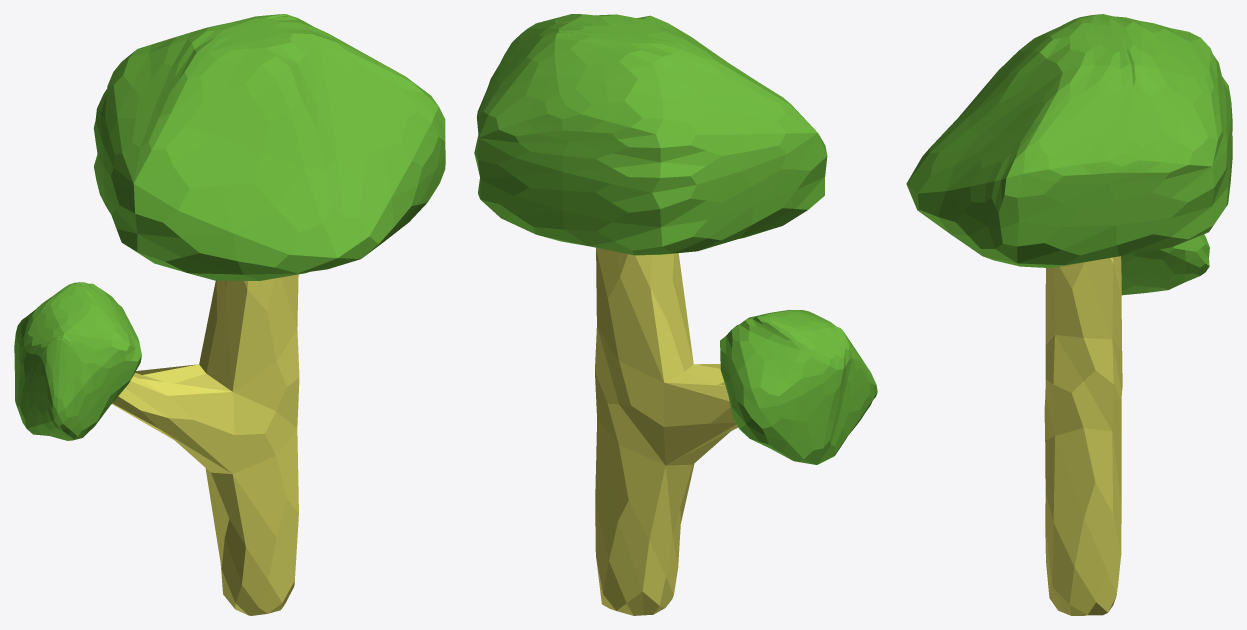
The model's file is Small tree.fbx.
3 renders of one model, left to right at view 1: azimuth 30°, elevation 25°; view 2: azimuth 150°, elevation 25°; view 3: azimuth 270°, elevation 25°, orthographic. The views are drawn at different scales.
Parts seen in each view (by area): view 1: 744-_UniqueID_5087, 782-_UniqueID_5070, 750-_UniqueID_5087; view 2: 744-_UniqueID_5087, 782-_UniqueID_5070, 750-_UniqueID_5087; view 3: 744-_UniqueID_5087, 782-_UniqueID_5070, 750-_UniqueID_5087.
Boxes of the visible parts, x1,y1,x2,y2 form: 744-_UniqueID_5087: (93, 14, 445, 280); 782-_UniqueID_5070: (112, 274, 299, 615); 750-_UniqueID_5087: (14, 282, 141, 440); 744-_UniqueID_5087: (474, 14, 827, 255); 782-_UniqueID_5070: (595, 247, 738, 615); 750-_UniqueID_5087: (720, 309, 877, 464); 744-_UniqueID_5087: (906, 14, 1232, 268); 782-_UniqueID_5070: (1044, 256, 1122, 615); 750-_UniqueID_5087: (1121, 234, 1209, 295).
Bounding box in the file's own units: 27.74 × 40.78 × 21.01.
